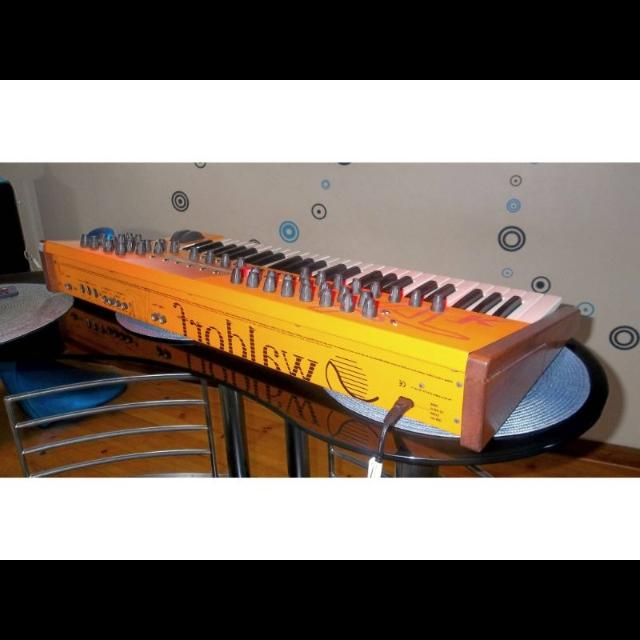Electronic-Keyboard: (30, 209, 598, 457)
